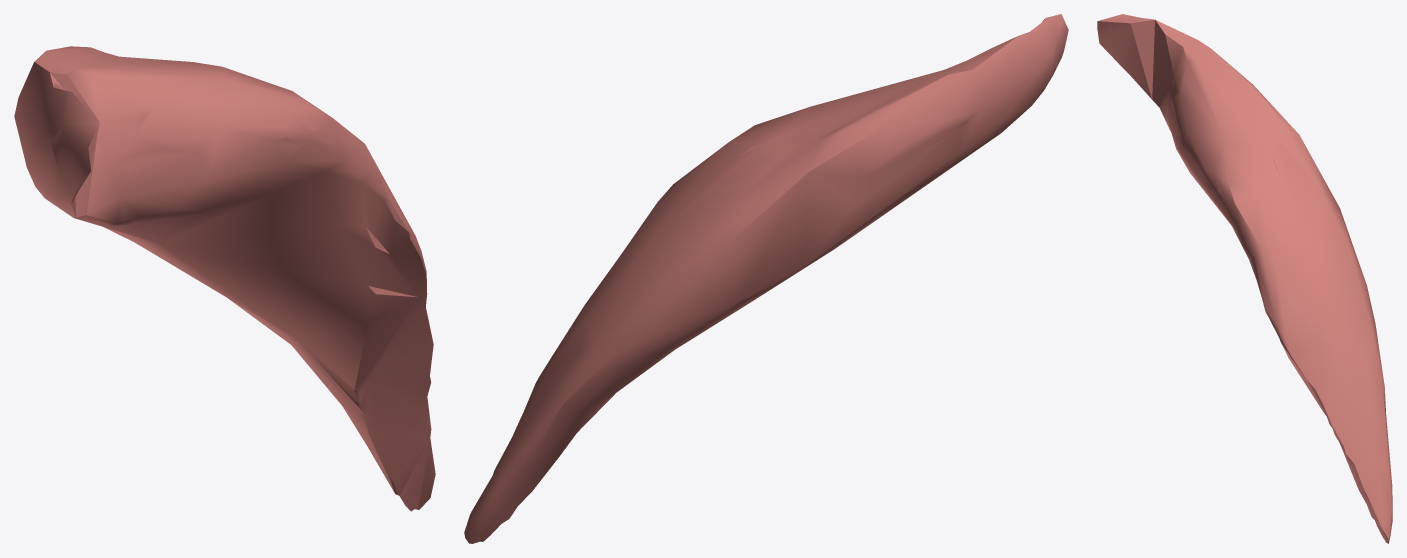
Rendered from fma32553_fj1508.glb.
3 renders of one model, left to right at view 1: azimuth 30°, elevation 25°; view 2: azimuth 150°, elevation 25°; view 3: azimuth 270°, elevation 25°, orthographic. The views are drawn at different scales.
Parts seen in each view (by area): view 1: FMA32553_FJ1508; view 2: FMA32553_FJ1508; view 3: FMA32553_FJ1508.
Part boxes in pixels (x1,y1,x2,y2): FMA32553_FJ1508: (14, 46, 435, 511); FMA32553_FJ1508: (464, 14, 1068, 543); FMA32553_FJ1508: (1097, 14, 1392, 543).
Bounding box in the file's own units: 0.0851 × 0.0964 × 0.0679.
